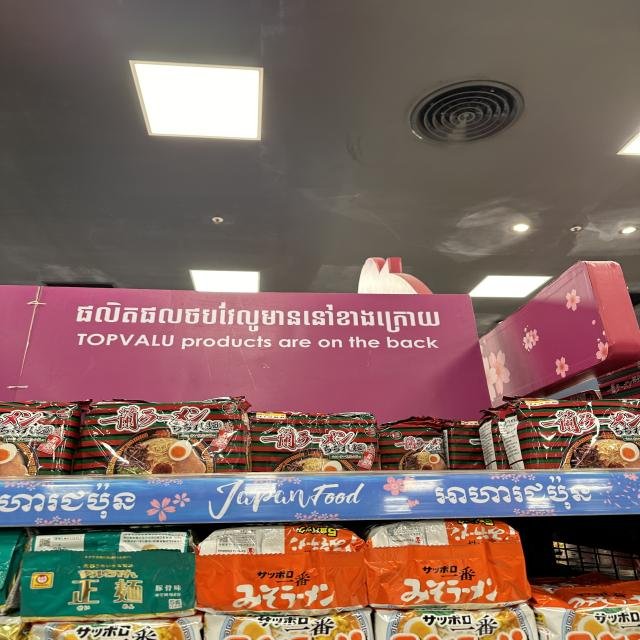Yolov11kh: (68, 300, 445, 336), (422, 476, 602, 514)
